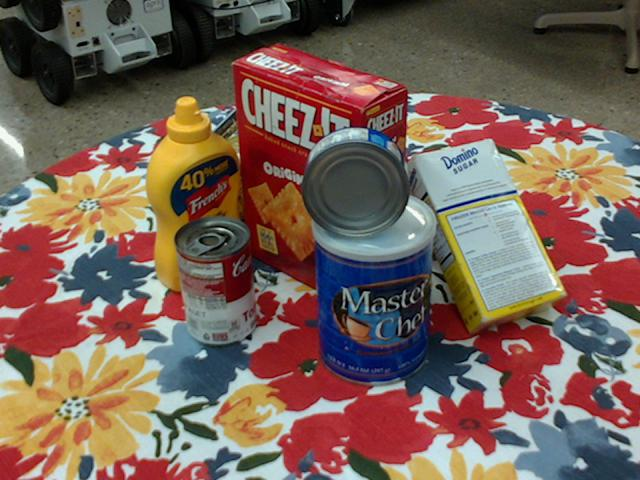cracker_box: (233, 45, 409, 309)
gelatin_box: (264, 132, 345, 206)
large_marker: (204, 89, 267, 148)
master_chef_can: (311, 191, 434, 389)
mug: (397, 149, 486, 253)
mustard_bottle: (144, 98, 245, 291)
potted_meat_can: (183, 132, 276, 239)
sugar_box: (400, 140, 568, 337)
tomato_soup_can: (172, 216, 255, 346)
tuna_fish_can: (302, 127, 411, 238)
